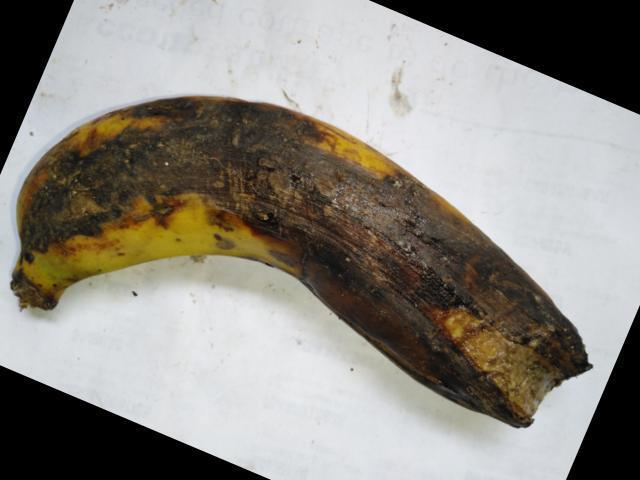rotten: (8, 79, 597, 427)
